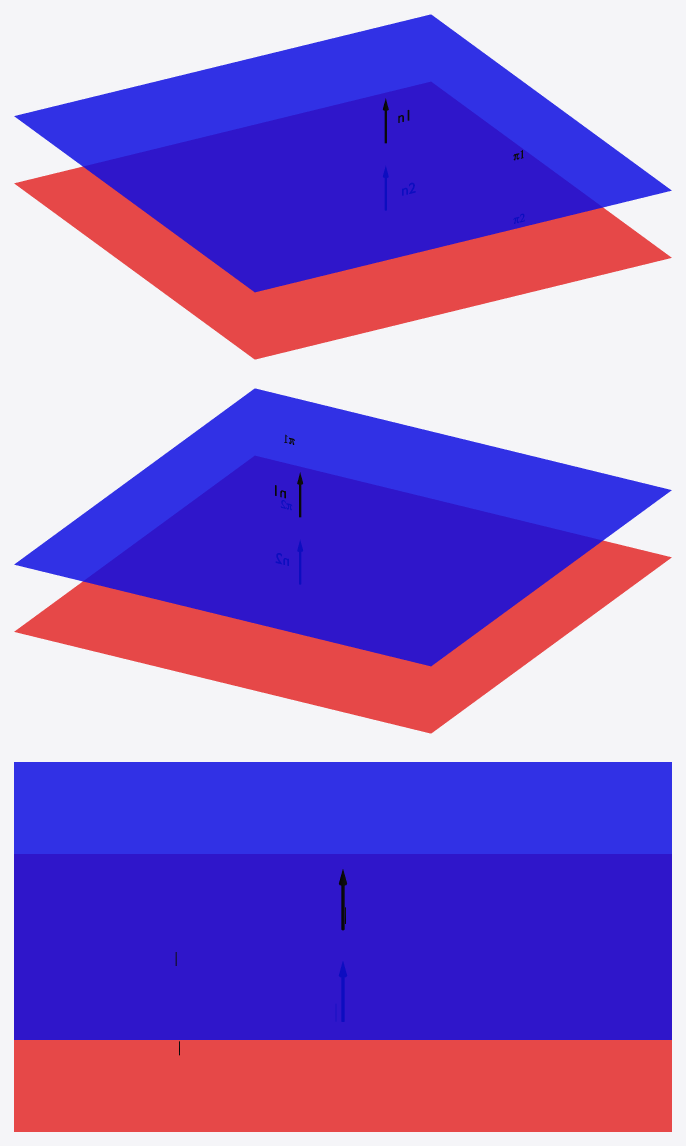
File: 3.4.2.a parallelplanes_e.glb
3 renders of one model, top to bottom at view 1: azimuth 30°, elevation 25°; view 2: azimuth 150°, elevation 25°; view 3: azimuth 270°, elevation 25°, orthographic. The views are drawn at different scales.
Parts seen in each view (by area): view 1: p, f; view 2: p, f; view 3: p, f.
Part boxes in pixels (<box>): p: <box>14,14,671,292</box>; f: <box>14,166,671,359</box>; p: <box>14,388,671,666</box>; f: <box>14,540,671,733</box>; p: <box>14,762,671,1039</box>; f: <box>14,1040,671,1131</box>.
Bounding box in the file's own units: 0.1948 × 0.05 × 0.1948.
